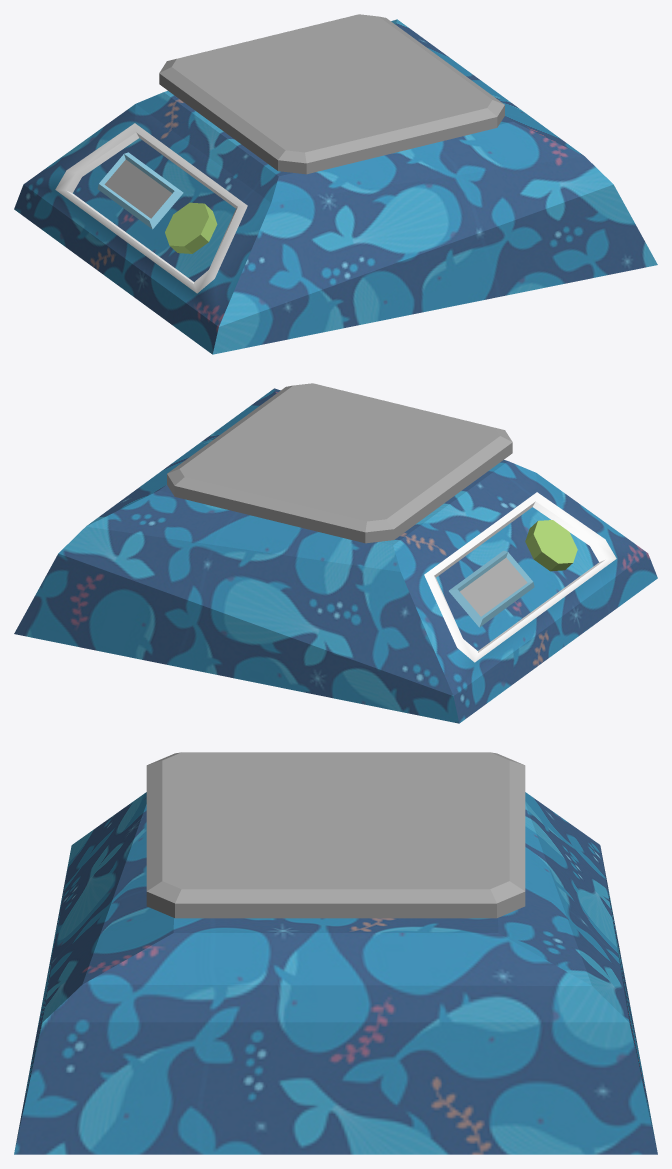
The model's file is Scale_001.fbx.
3 renders of one model, top to bottom at view 1: azimuth 30°, elevation 25°; view 2: azimuth 150°, elevation 25°; view 3: azimuth 270°, elevation 25°, orthographic. The views are drawn at different scales.
Parts seen in each view (by area): view 1: Scale_Bottom, Scale_Upper, Scale_Button, Scale_Frame; view 2: Scale_Bottom, Scale_Upper, Scale_Button, Scale_Frame; view 3: Scale_Bottom, Scale_Upper.
Part boxes in pixels (bbox=[...]): Scale_Bottom: bbox=[14, 19, 657, 354]; Scale_Upper: bbox=[159, 14, 504, 174]; Scale_Button: bbox=[165, 202, 217, 253]; Scale_Frame: bbox=[104, 159, 172, 218]; Scale_Bottom: bbox=[14, 388, 657, 723]; Scale_Upper: bbox=[167, 383, 512, 543]; Scale_Button: bbox=[525, 520, 577, 571]; Scale_Frame: bbox=[460, 557, 527, 616]; Scale_Bottom: bbox=[14, 792, 657, 1154]; Scale_Upper: bbox=[146, 752, 525, 918].
Bounding box in the file's own units: 50.41 × 16.42 × 48.7.
Materials: 3 (1 with a texture image).
